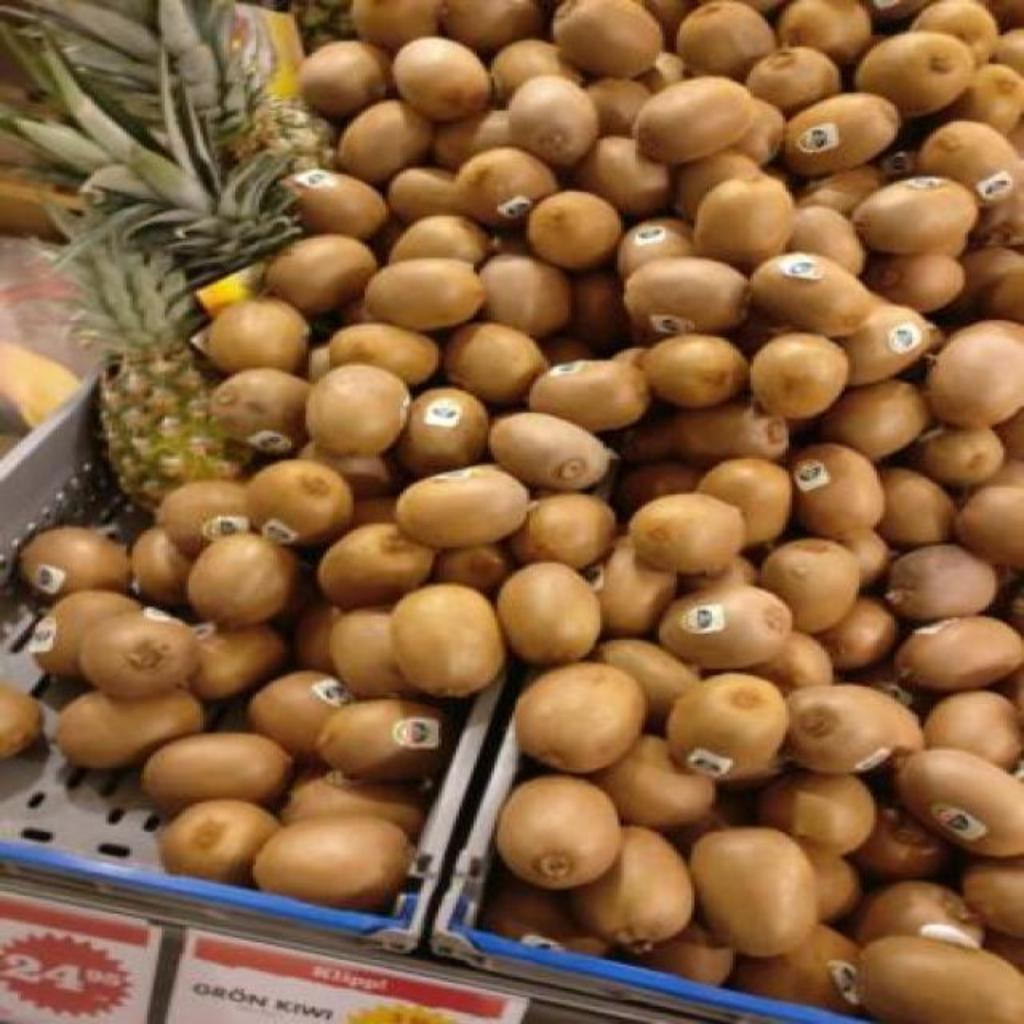kiwi: (497, 664, 647, 892), (656, 587, 792, 779), (750, 305, 942, 417), (883, 121, 1024, 252), (691, 828, 818, 958), (856, 931, 1024, 1024), (618, 221, 744, 335), (480, 883, 656, 964), (141, 733, 297, 823), (577, 828, 694, 945), (900, 748, 1024, 858), (388, 585, 503, 702), (235, 459, 362, 561), (250, 821, 403, 905), (786, 684, 924, 777), (727, 929, 865, 1022), (391, 466, 536, 554), (577, 640, 703, 739), (792, 380, 936, 466), (750, 252, 889, 340), (59, 691, 209, 772), (491, 75, 603, 181), (624, 492, 747, 585), (79, 614, 203, 706), (153, 481, 294, 561), (850, 803, 962, 903), (780, 93, 900, 185), (691, 174, 797, 278), (153, 801, 282, 885), (486, 413, 609, 501), (247, 669, 356, 768), (636, 77, 756, 166), (856, 31, 977, 119), (318, 523, 435, 614), (300, 35, 400, 141), (524, 355, 653, 437), (756, 541, 865, 638), (786, 448, 886, 552), (606, 739, 718, 830), (12, 525, 132, 609), (321, 700, 444, 781), (391, 38, 491, 137), (200, 296, 315, 382), (188, 534, 291, 629), (362, 258, 488, 335), (500, 567, 600, 664), (933, 324, 1024, 430), (571, 132, 671, 227), (265, 236, 377, 320), (438, 324, 550, 408), (306, 366, 409, 457), (883, 545, 1000, 625), (197, 629, 291, 728), (524, 190, 627, 280), (877, 430, 1009, 499), (900, 616, 1021, 691), (209, 369, 312, 456), (953, 452, 1024, 578), (315, 322, 441, 393), (636, 333, 747, 413), (694, 459, 789, 552), (338, 99, 433, 192), (400, 386, 494, 479), (556, 0, 662, 82), (509, 497, 618, 576), (600, 541, 683, 644), (129, 525, 212, 627), (674, 2, 777, 84), (865, 881, 986, 949), (477, 252, 571, 338), (862, 185, 971, 256), (330, 611, 415, 702), (50, 591, 141, 675), (450, 148, 562, 216), (924, 691, 1018, 772), (624, 929, 739, 993), (859, 252, 965, 320), (586, 68, 691, 135), (488, 38, 589, 106), (780, 0, 874, 73), (880, 466, 959, 552), (971, 26, 1024, 154), (380, 170, 456, 258), (671, 157, 768, 225), (674, 406, 789, 463), (789, 779, 868, 861), (297, 172, 388, 243), (827, 591, 903, 673), (615, 466, 703, 536), (427, 110, 518, 177), (906, 0, 1003, 62), (385, 214, 497, 267), (288, 775, 421, 817), (786, 207, 865, 276), (959, 867, 1024, 947), (800, 166, 889, 216), (456, 0, 538, 53), (362, 0, 441, 53), (809, 847, 859, 927), (612, 410, 683, 466), (427, 550, 509, 598), (571, 269, 621, 342), (747, 49, 839, 86), (3, 680, 47, 757), (780, 633, 836, 691), (730, 115, 786, 168), (294, 602, 335, 671), (330, 455, 388, 503), (971, 252, 1024, 291), (992, 282, 1024, 322), (547, 335, 591, 362), (359, 501, 394, 523)
